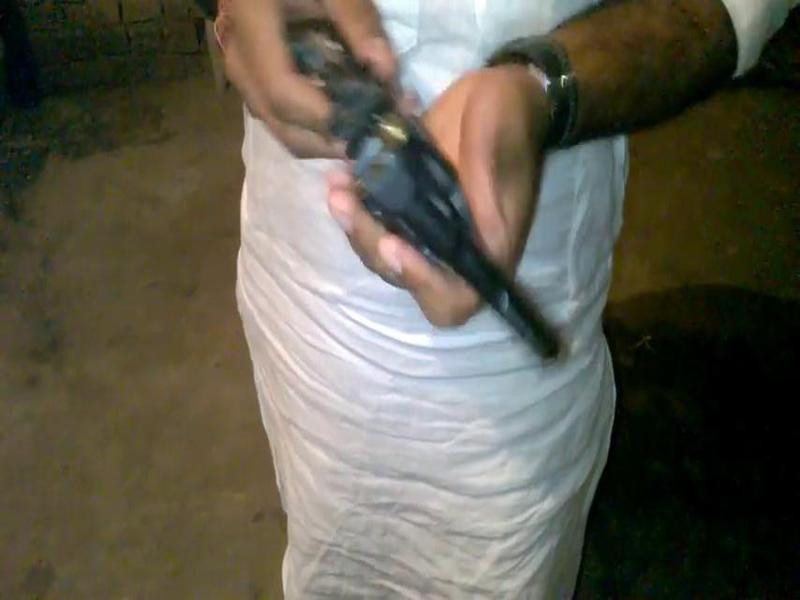Revolver: (303, 46, 576, 397)
